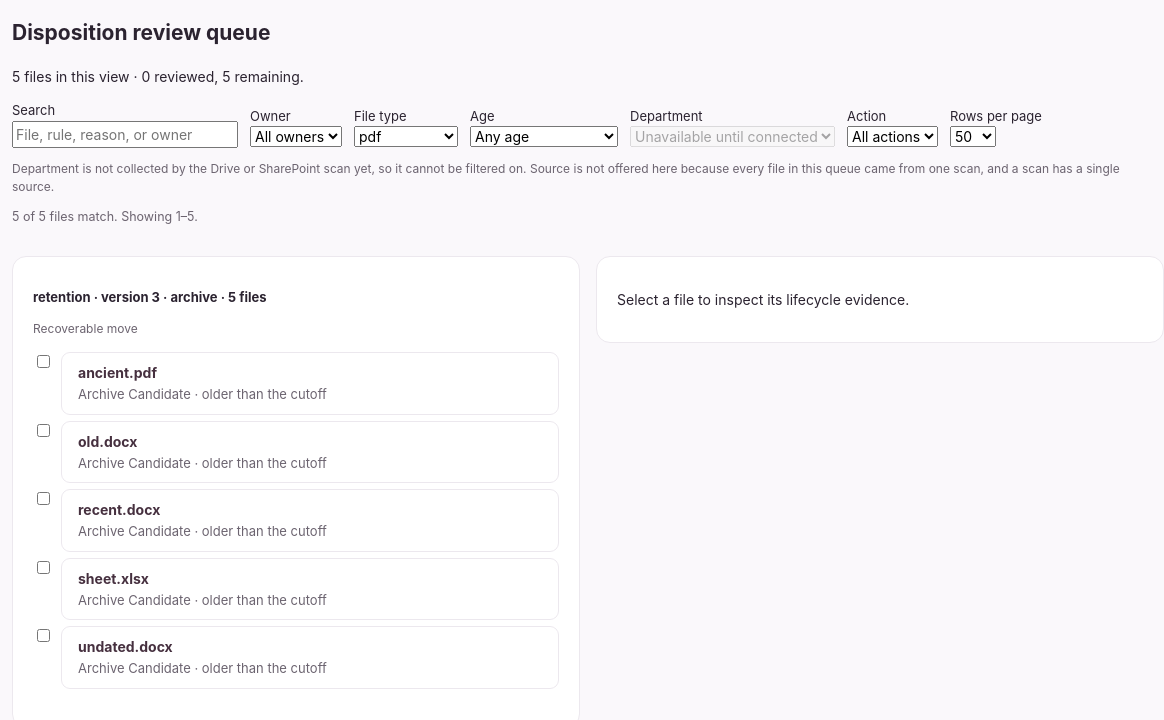
filters compose › blames the filters for an empty list, not the rules
Step 1. Select "pdf" in the dropdown labelled "File type" → (406, 137), box [354,126,458,147]
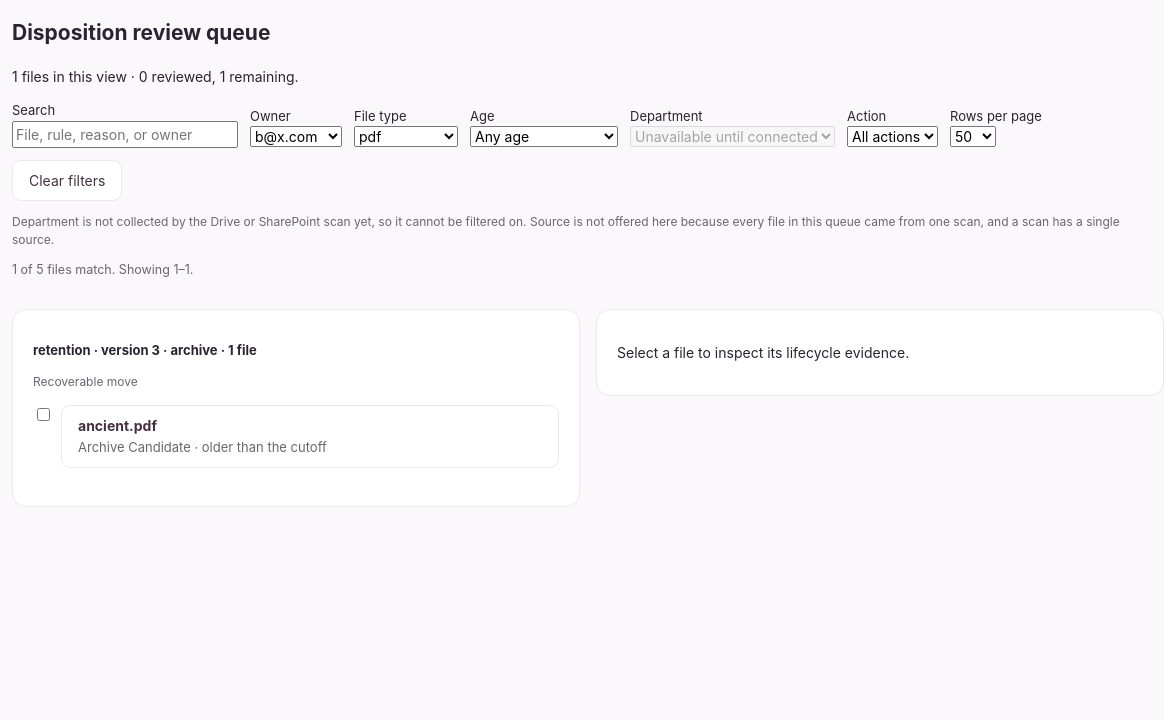
Step 2. Select "b@x.com" in the dropdown labelled "Owner" → (296, 137), box [250,126,342,147]
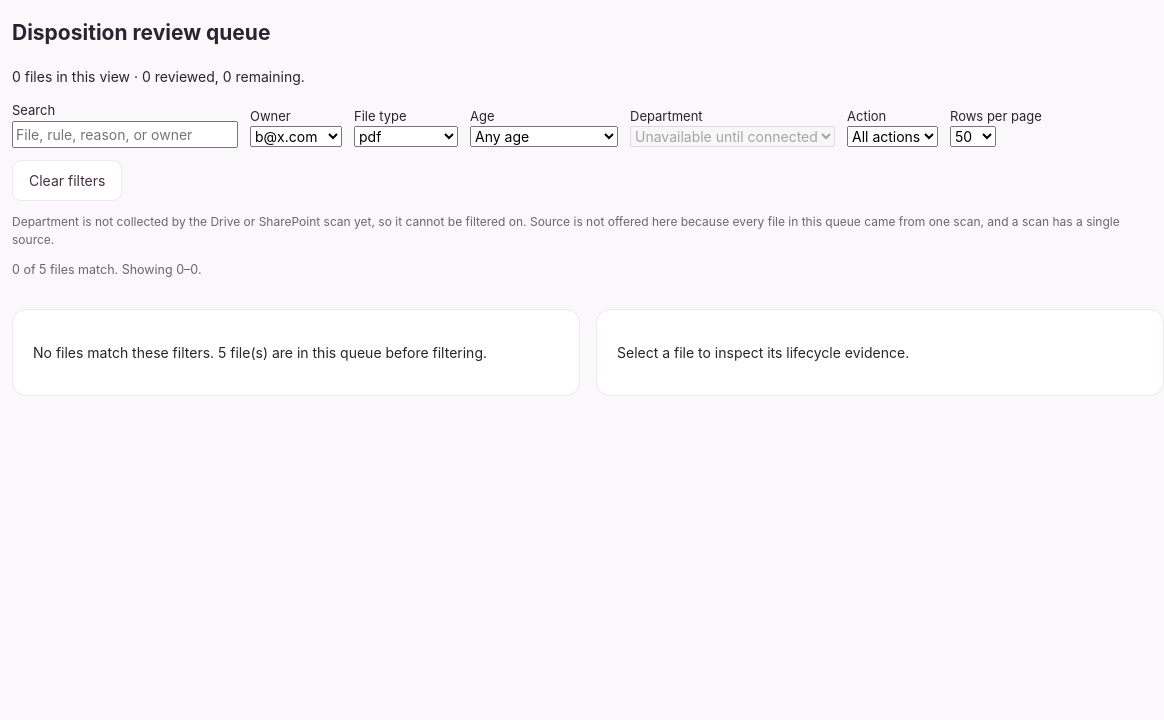
Check: the text "No files match these filters" is shown, box [33,344,487,361]
Check: the text "5 file(s) are in this queue before filtering" is shown, box [33,344,487,361]
